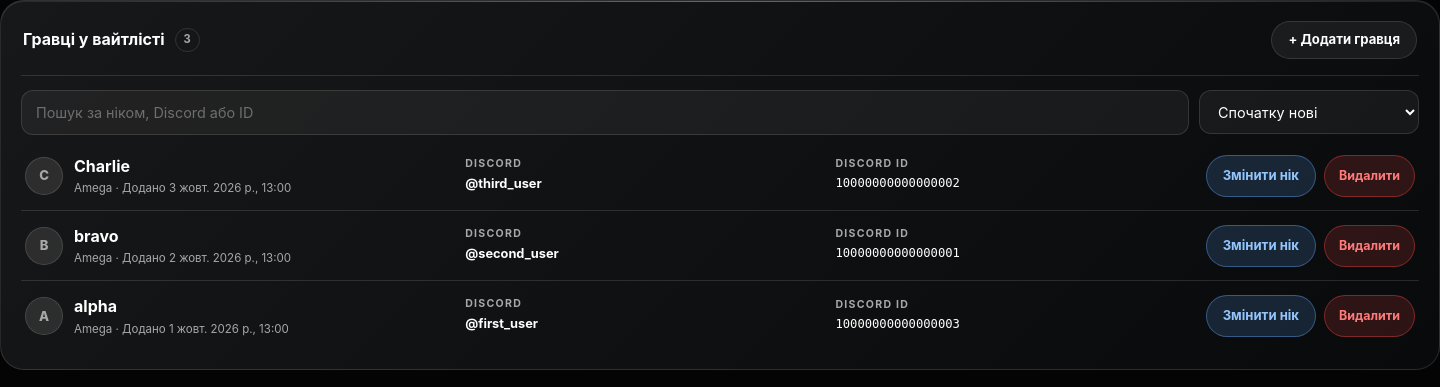
Test case: filters the whitelist by nickname, Discord and Discord ID
The image size is (1440, 387).
Check: the text "alpha" is shown, box [74,296,117,316]
Type "CHAR" into the search field named "Пошук у вайтлісті" at (605, 112), box [21,90,1189,135]
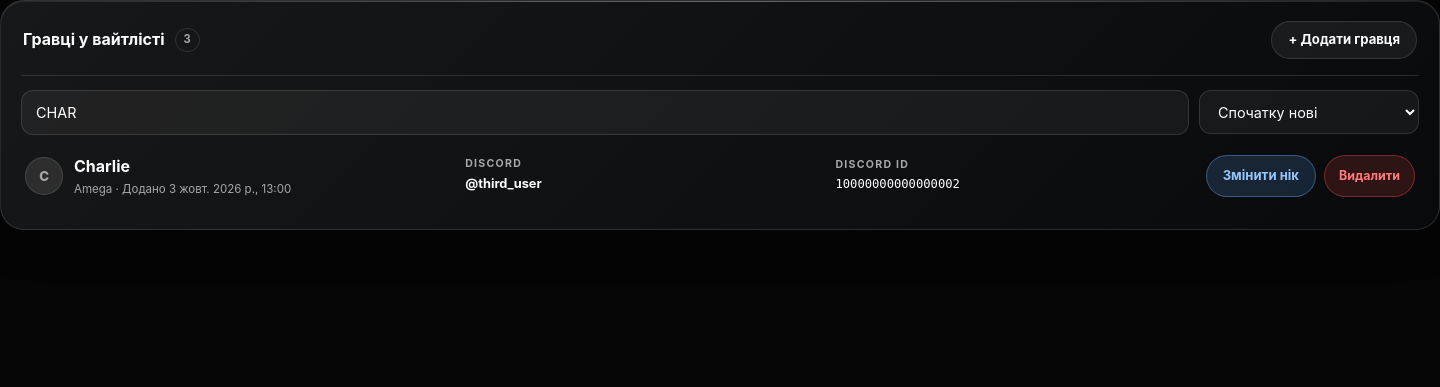
Check: the text "Charlie" is shown, box [74,156,130,176]
Check: the text "alpha" is gone
Replace the text in the search field named "Пошук у вайтлісті" with "first_user" at (605, 112), box [21,90,1189,135]
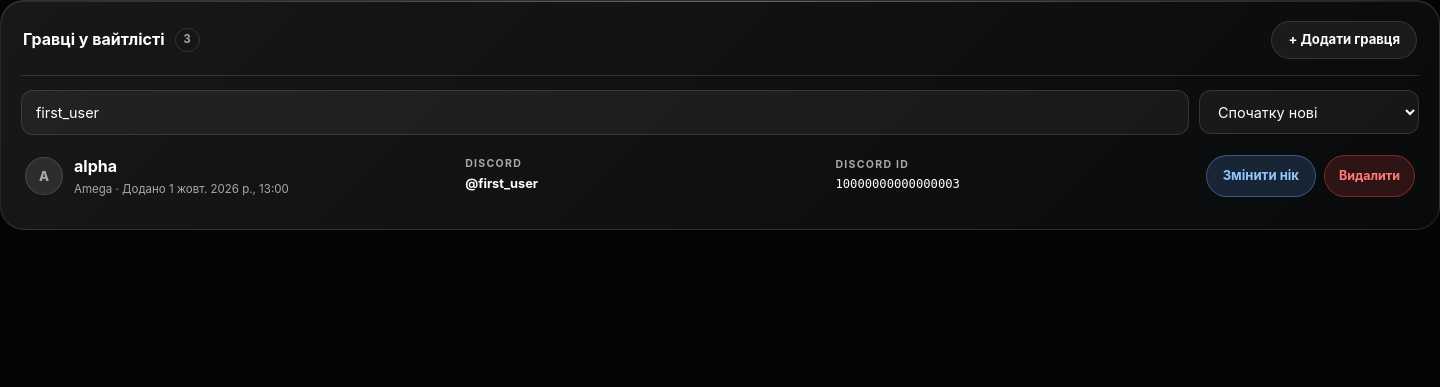
Check: the text "alpha" is shown, box [74,156,117,176]
Check: the text "Charlie" is gone
Replace the text in the search field named "Пошук у вайтлісті" with "10000000000000002" at (605, 112), box [21,90,1189,135]
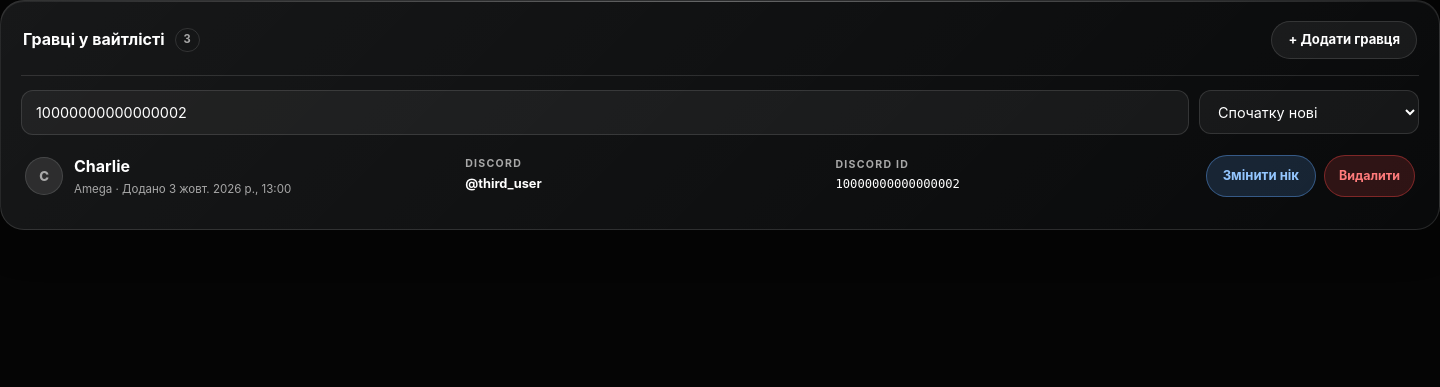
Check: the text "Charlie" is shown, box [74,156,130,176]
Replace the text in the search field named "Пошук у вайтлісті" with "nobody" at (605, 112), box [21,90,1189,135]
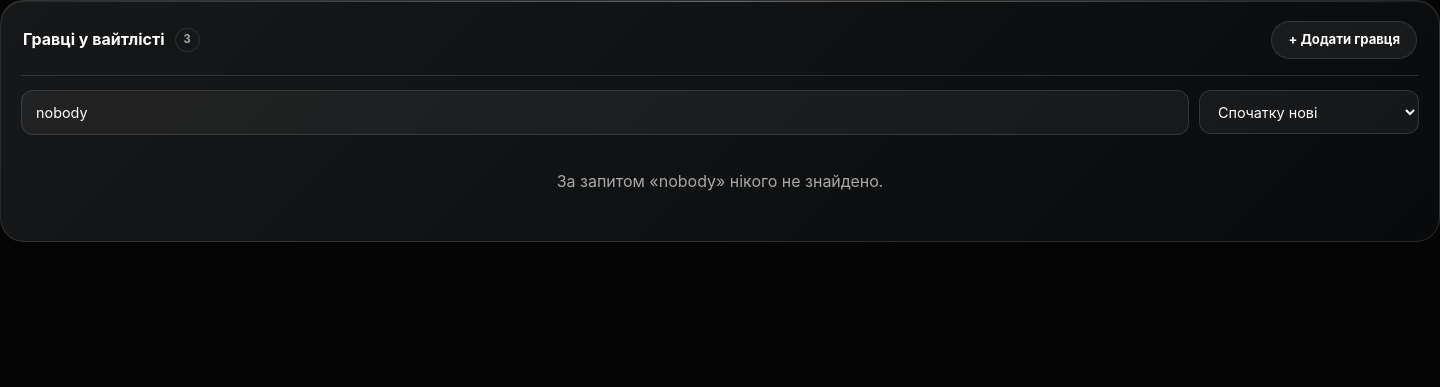
Check: the text "За запитом «nobody» нікого не знайдено." is shown, box [557,171,883,191]
